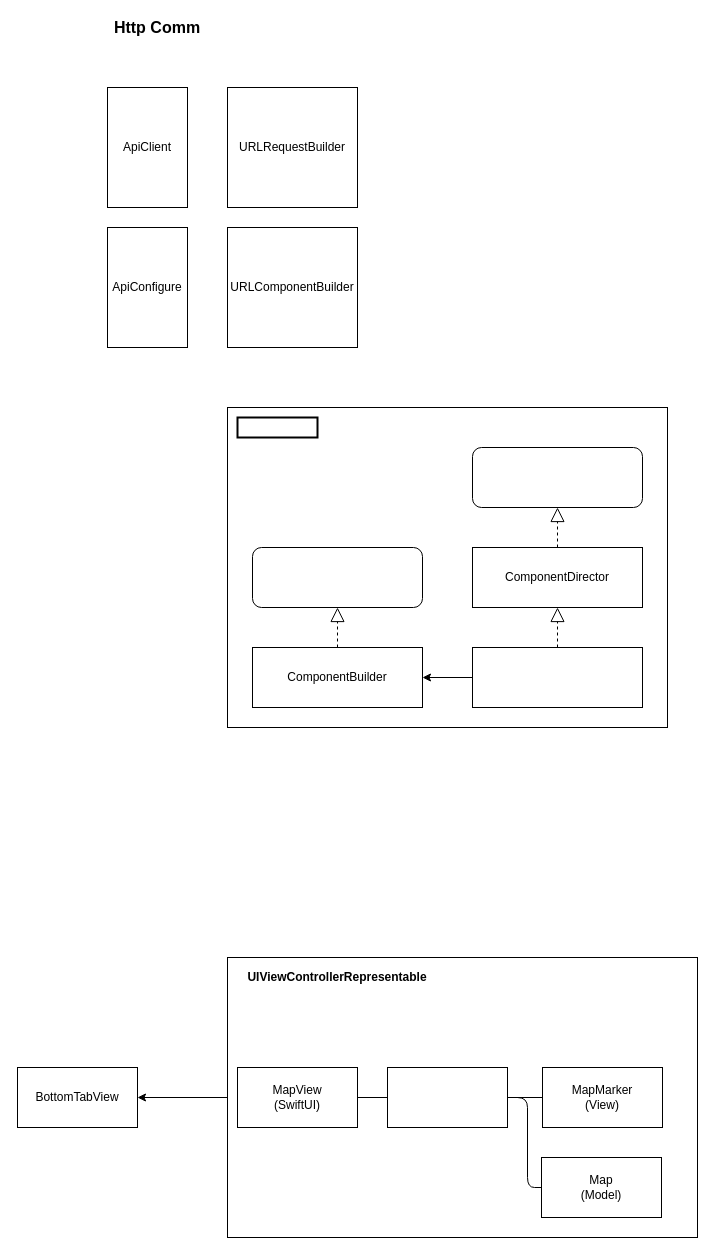
Image size: 715x1255. Some labels were removed from this diagram. The shapes that lost their labels are listed below. From the top down, each one's centre as x and y in pixels, then its label:
At pixel 277 427: "URLBuilder".
At pixel 557 477: "ComponentDirectorProtocol".
At pixel 337 577: "ComponentBuilderProtocol".
At pixel 557 677: "ExternalComponentDirector".
At pixel 447 1097: "MapViewController (ViewController)".
